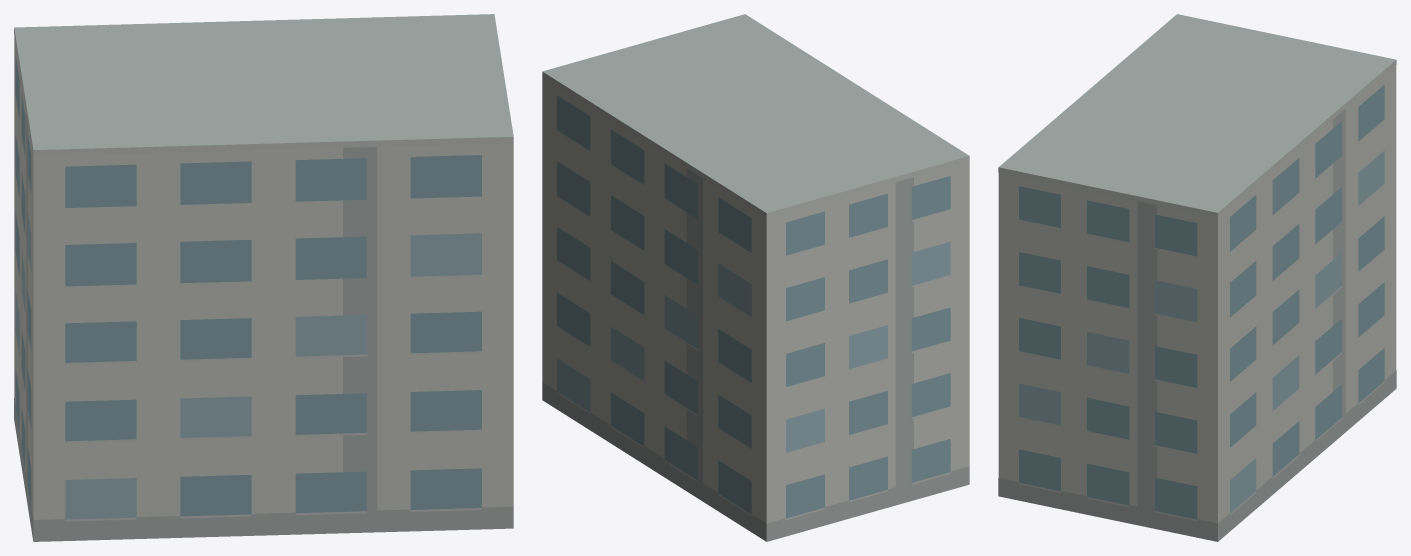
The model's file is residential-2efcd881-9f17-4682-9877-4f284cd3f793.glb.
3 views of the same model, side by side, from view 1: azimuth 30°, elevation 25°; view 2: azimuth 150°, elevation 25°; view 3: azimuth 270°, elevation 25° (orthographic). The views are drawn at different scales.
Visible parts, largest first — view 1: residential-2efcd881-9f17-4682-9877-4f284cd3f793.tmp; view 2: residential-2efcd881-9f17-4682-9877-4f284cd3f793.tmp; view 3: residential-2efcd881-9f17-4682-9877-4f284cd3f793.tmp.
Boxes of the visible parts, x1=… form: residential-2efcd881-9f17-4682-9877-4f284cd3f793.tmp: x1=14, y1=14, x2=513, y2=541; residential-2efcd881-9f17-4682-9877-4f284cd3f793.tmp: x1=542, y1=14, x2=969, y2=541; residential-2efcd881-9f17-4682-9877-4f284cd3f793.tmp: x1=998, y1=14, x2=1396, y2=541.
Bounding box in the file's own units: 19.45 × 15 × 16.45.
